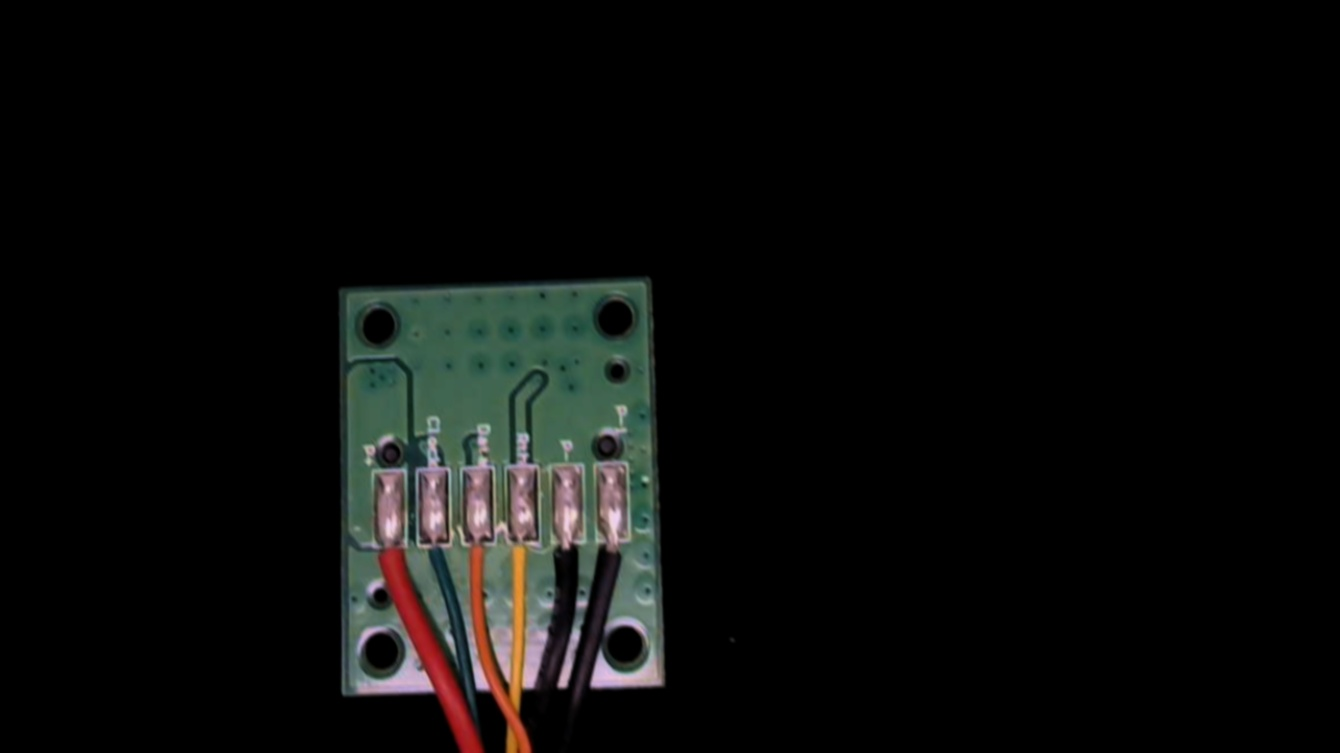Black: (549, 521, 587, 597)
Black1: (595, 517, 634, 602)
Green: (418, 526, 448, 599)
Orange: (460, 523, 495, 601)
Red: (370, 525, 409, 613)
Yellow: (503, 522, 543, 615)
